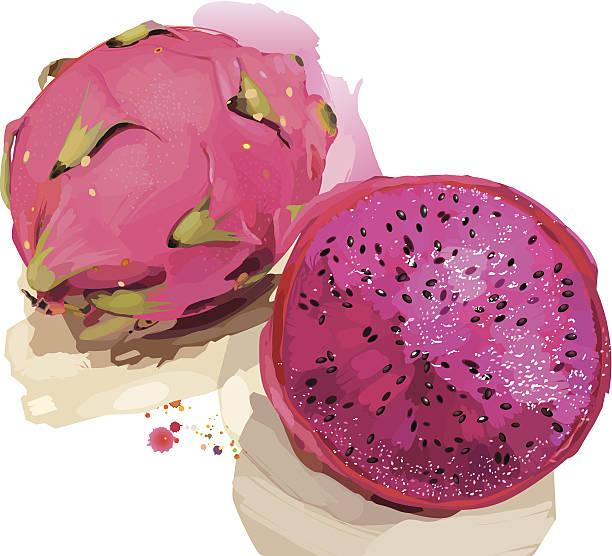dragon fruit: (261, 166, 610, 527), (3, 15, 333, 353)
